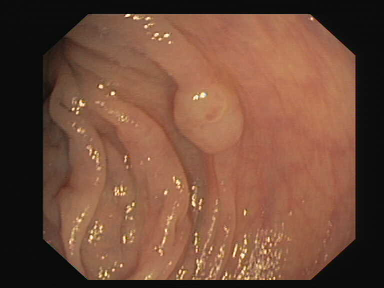polyp: (166, 61, 265, 157)
